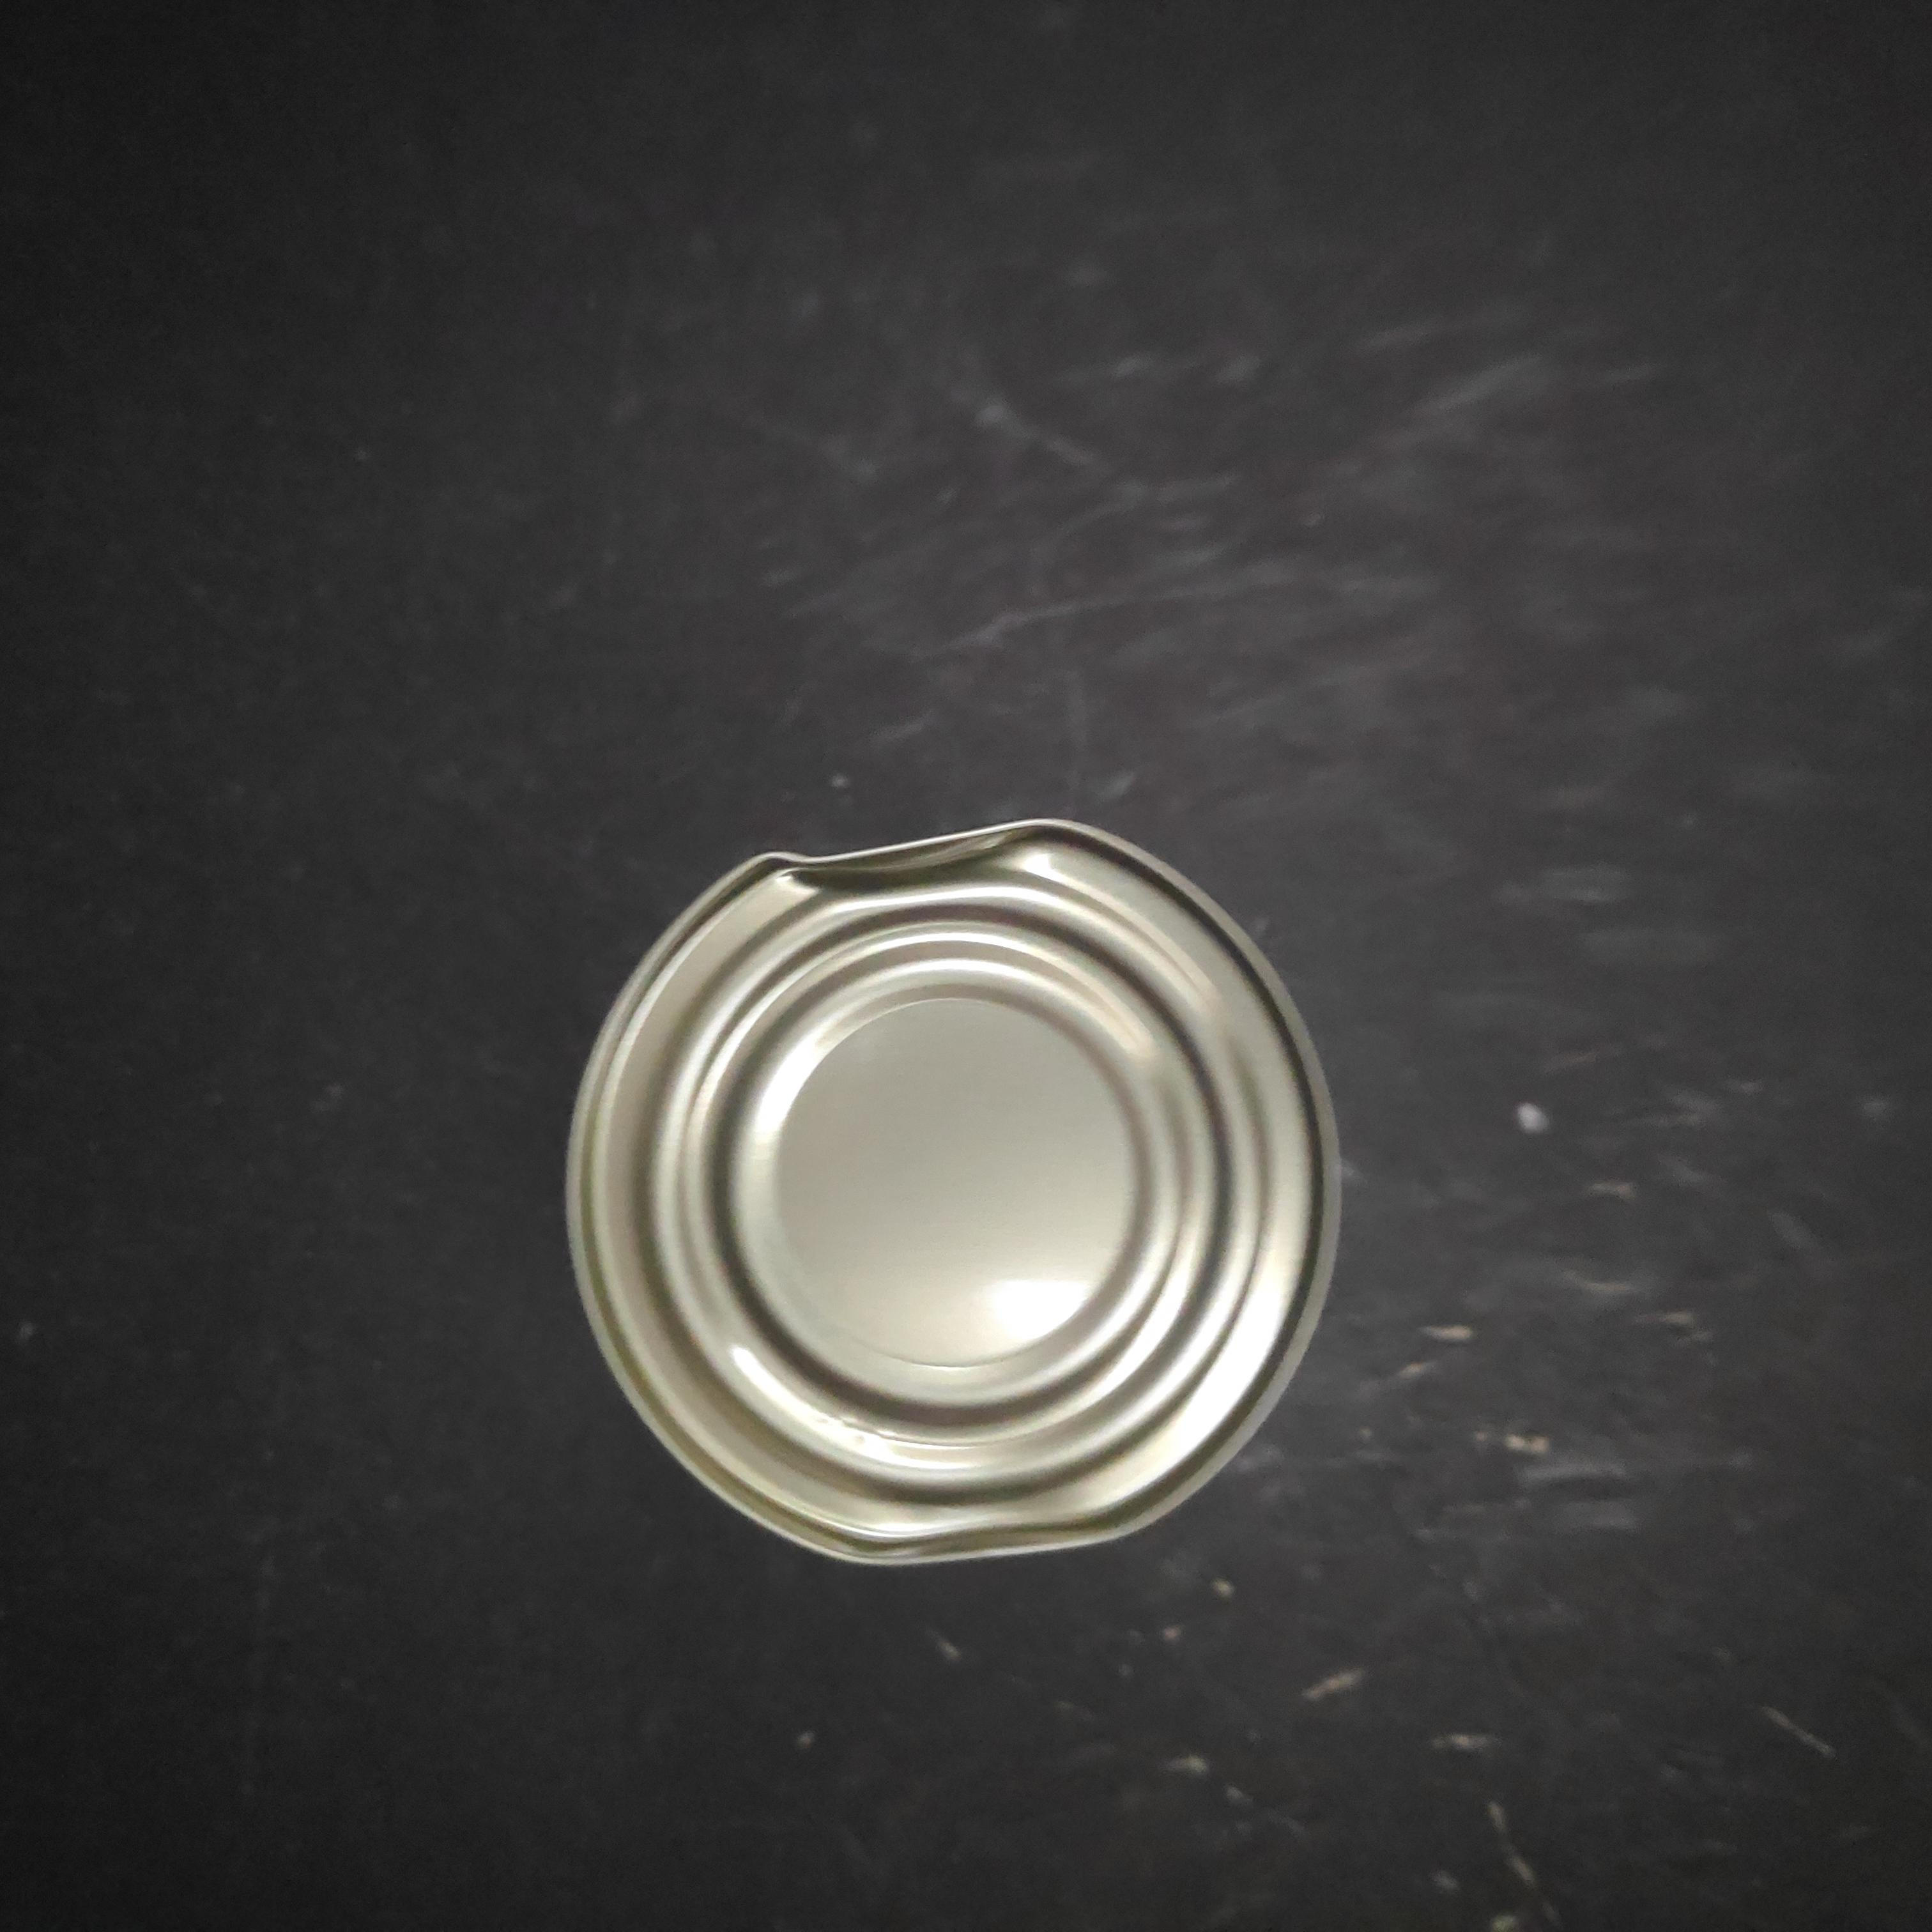Minor Defect: (570, 352, 1389, 1131)
